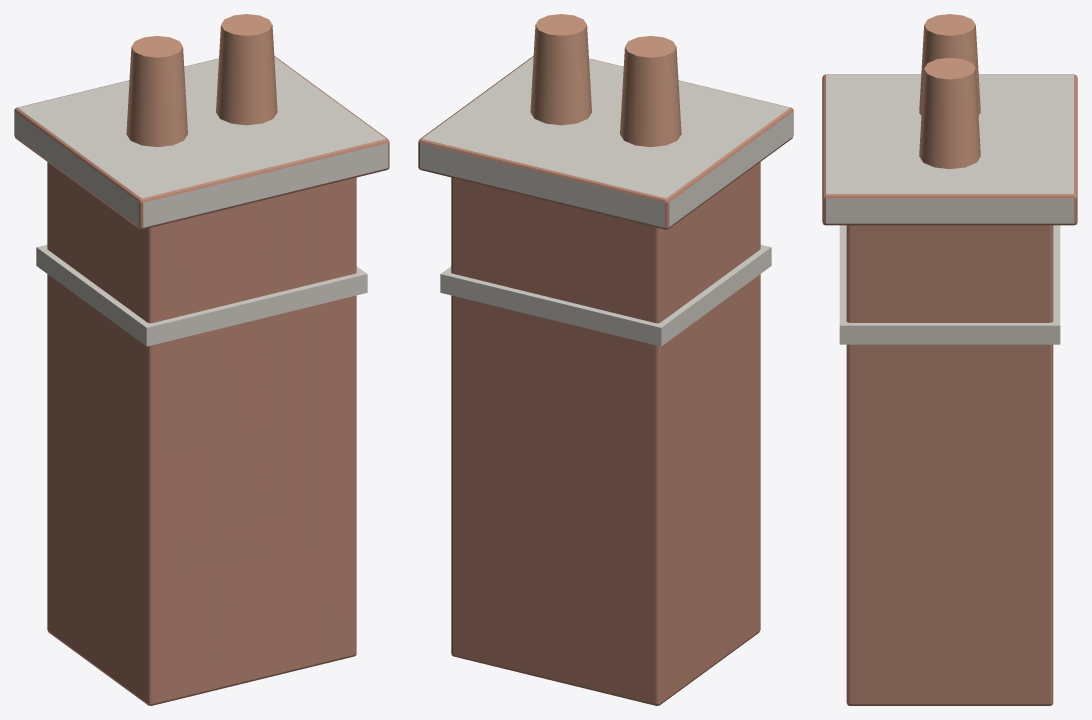
Rendered from house_chimney.glb.
3 views of the same model, side by side, from view 1: azimuth 30°, elevation 25°; view 2: azimuth 150°, elevation 25°; view 3: azimuth 270°, elevation 25° (orthographic).
Parts seen in each view (by area): view 1: Chimney; view 2: Chimney; view 3: Chimney.
Boxes of the visible parts, <box> form: Chimney: <box>14,14,389,705</box>; Chimney: <box>418,14,793,705</box>; Chimney: <box>822,14,1077,705</box>.
Bounding box in the file's own units: 0.84 × 1.95 × 0.74.
